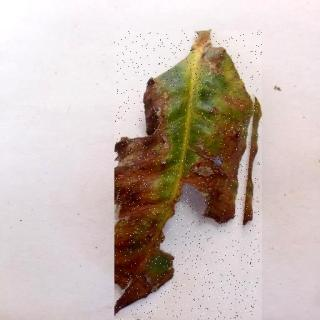Algal Leaf: (115, 31, 262, 320)
